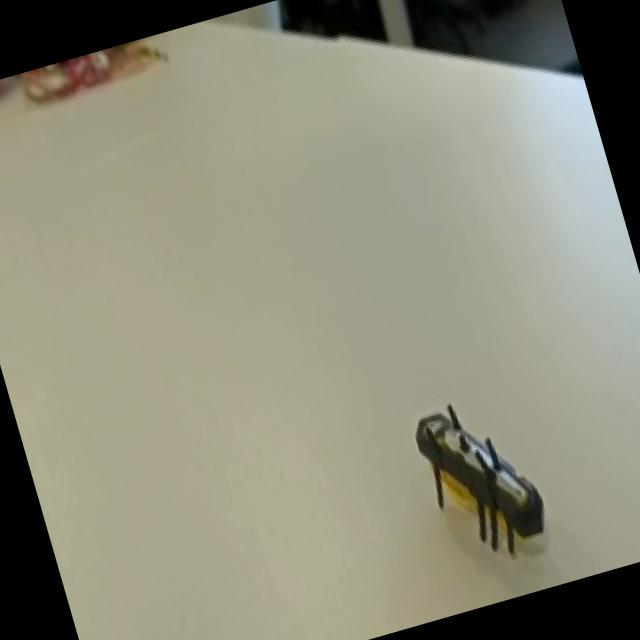6_NanoBug_GrisOscuro: (374, 362, 590, 610)
